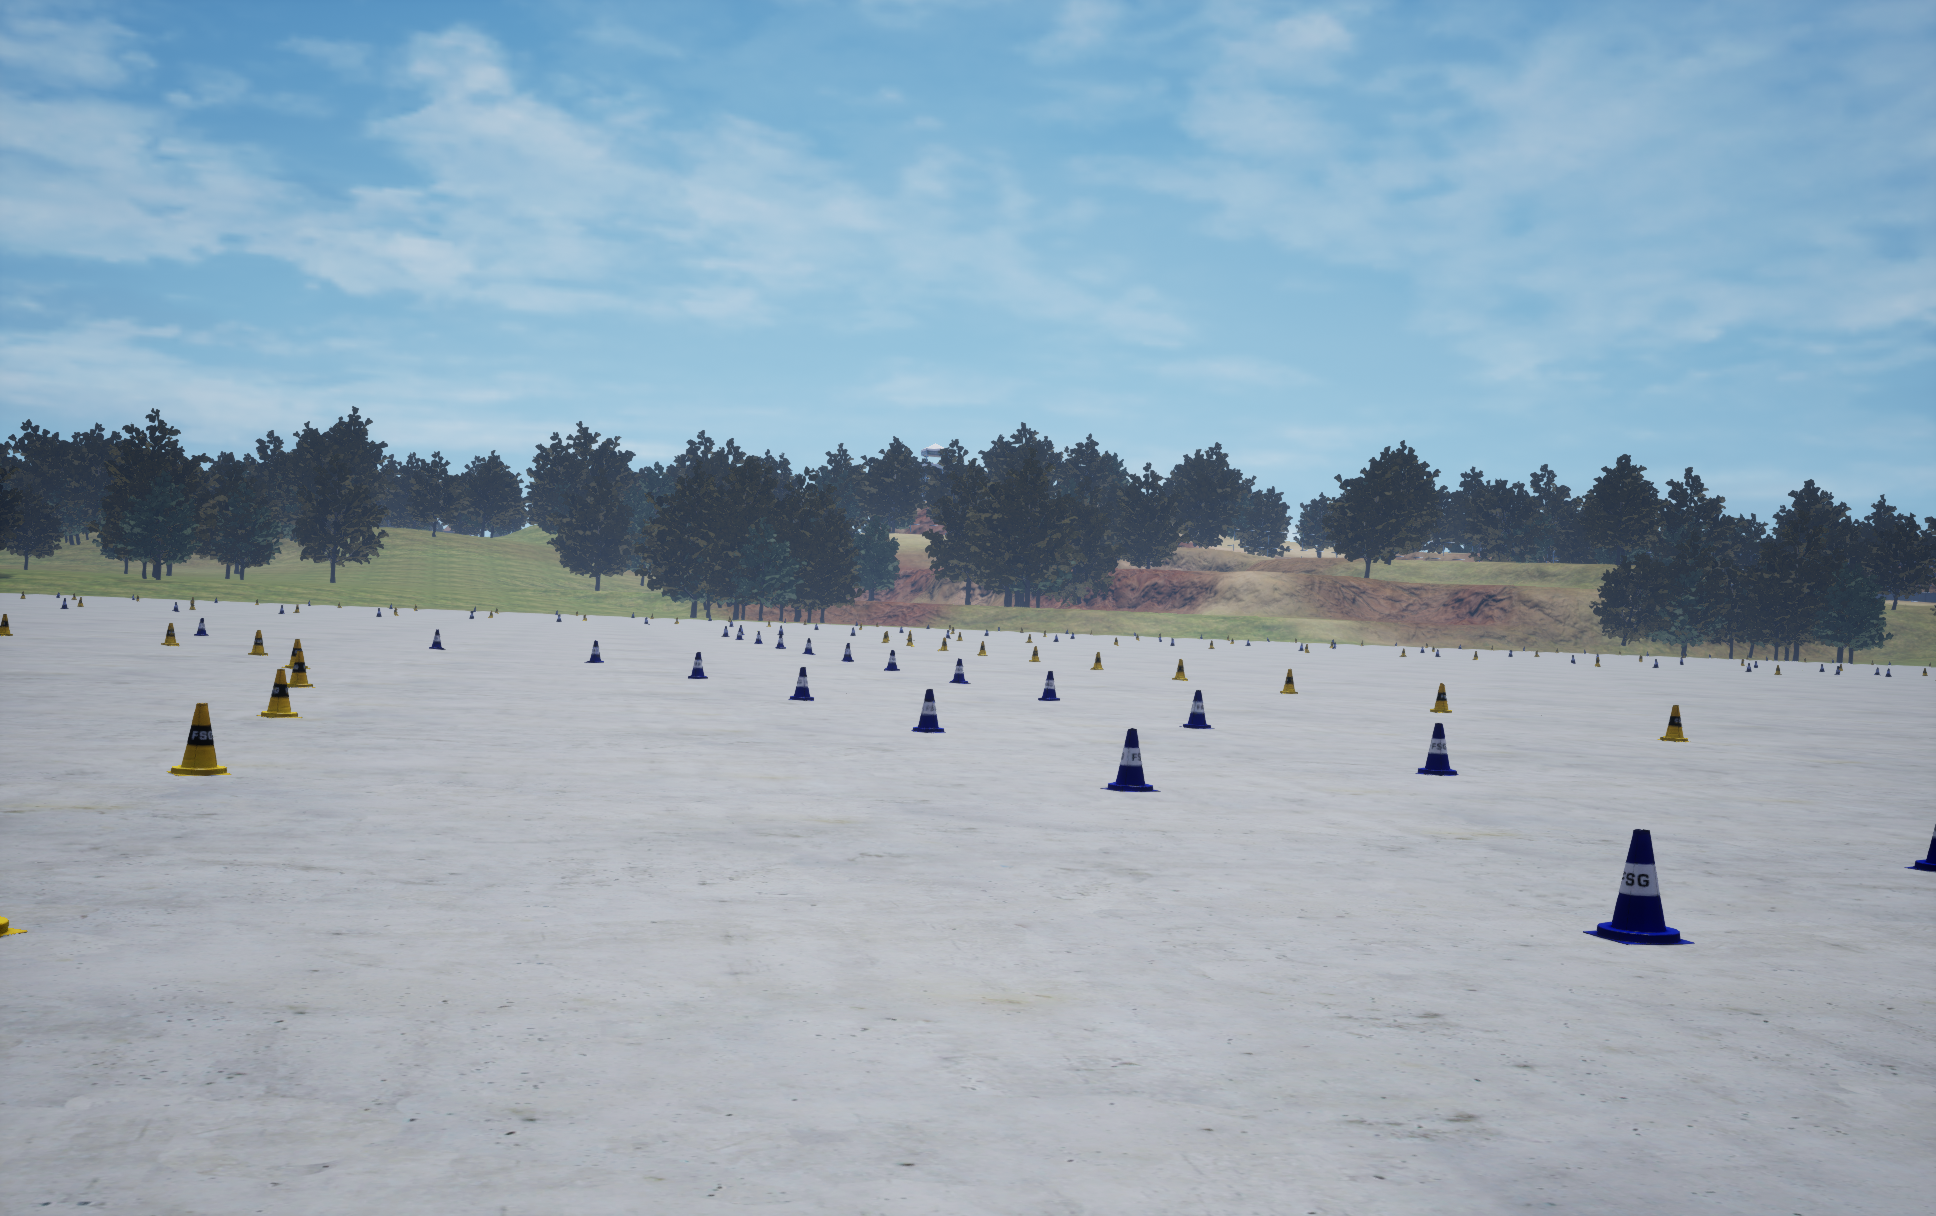blue: (165, 703, 231, 775), (256, 670, 303, 717), (1657, 705, 1689, 741), (287, 651, 315, 686), (282, 639, 310, 668), (1430, 684, 1451, 712), (0, 916, 27, 936), (248, 630, 268, 656), (1280, 670, 1297, 693), (161, 623, 179, 644), (1173, 658, 1187, 679), (0, 614, 13, 635), (1090, 651, 1102, 670)
yellow: (1583, 829, 1694, 944), (1100, 728, 1160, 792), (1415, 723, 1458, 775), (911, 689, 946, 733), (1904, 824, 1935, 871), (1180, 691, 1215, 728), (789, 667, 813, 700), (1038, 671, 1059, 700), (948, 658, 969, 684), (688, 651, 707, 678), (584, 640, 602, 663), (429, 629, 445, 649), (884, 650, 899, 670), (841, 643, 853, 661)
